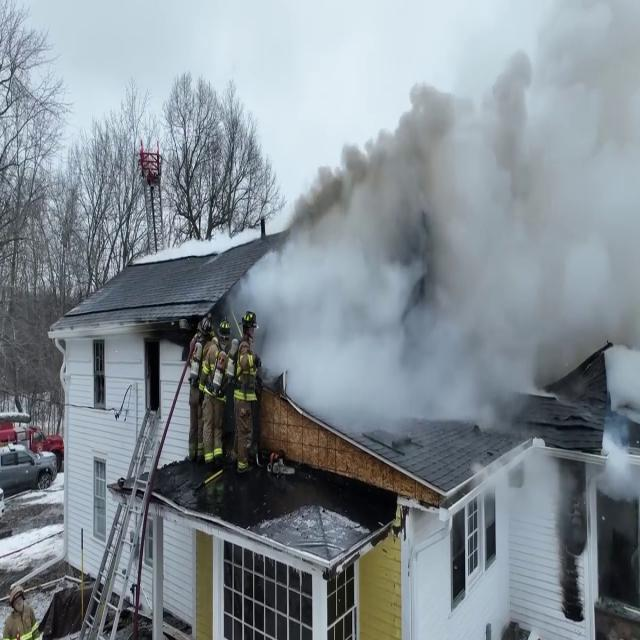Smoke: (231, 15, 640, 423)
